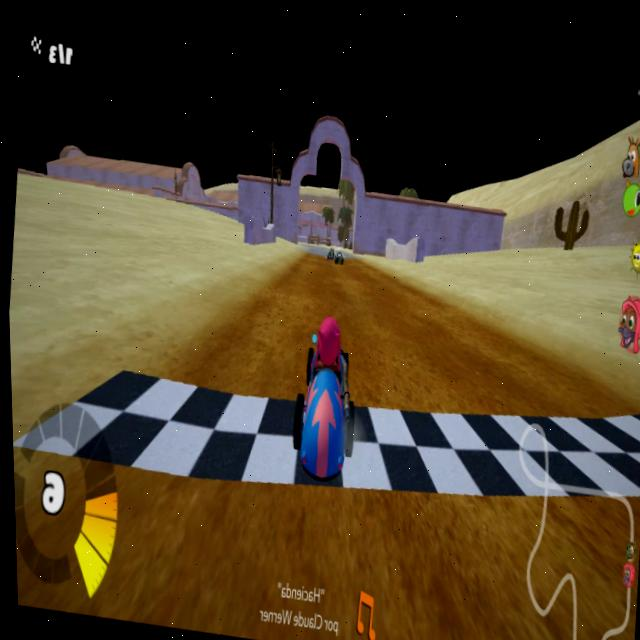enemy_kart: (331, 241, 342, 266)
off_track: (13, 138, 213, 347), (365, 224, 595, 290)
player_kart: (280, 314, 362, 487)
track: (283, 258, 407, 323)
